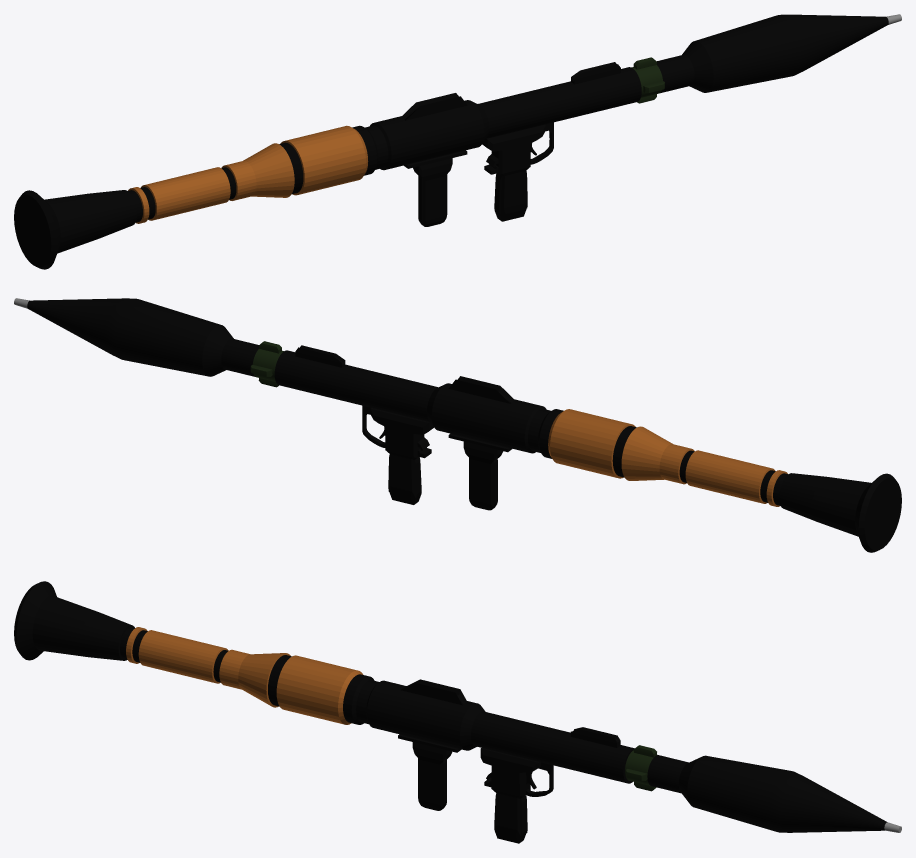
The model's file is rocket launcher.fbx.
3 renders of one model, top to bottom at view 1: azimuth 30°, elevation 25°; view 2: azimuth 150°, elevation 25°; view 3: azimuth 330°, elevation 25°, orthographic.
Parts seen in each view (by area): view 1: Cube, Cylinder.001; view 2: Cube, Cylinder.001; view 3: Cube, Cylinder.001.
Boxes of the visible parts, <box> form: Cube: <box>14,62,641,269</box>; Cylinder.001: <box>631,14,901,103</box>; Cube: <box>274,345,901,552</box>; Cylinder.001: <box>14,298,283,387</box>; Cube: <box>14,581,634,843</box>; Cylinder.001: <box>625,745,901,832</box>.
Bounding box in the file's own units: 2233 × 344 × 181.
